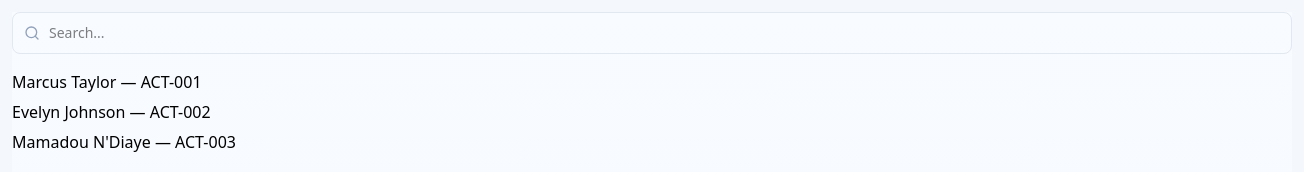
Scenario: SearchableList › filters by a field other than the display name (e.g. card number)
Type "act-003" into the field with placeholder "Search..." at (652, 33), box x1=12 y1=12 x2=1292 y2=54
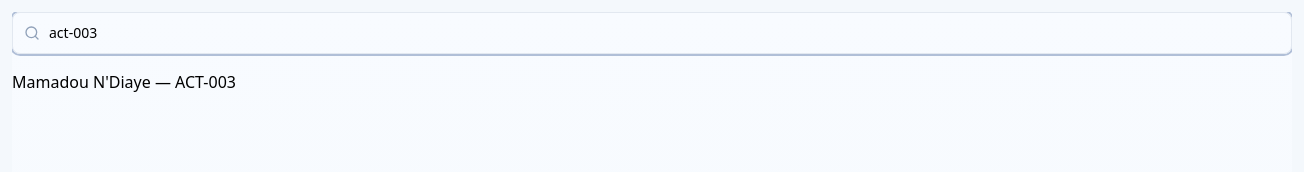
Expected: the text "Mamadou N'Diaye — ACT-003" is shown, x1=12 y1=71 x2=236 y2=93
Now the button "Marcus Taylor" is gone
